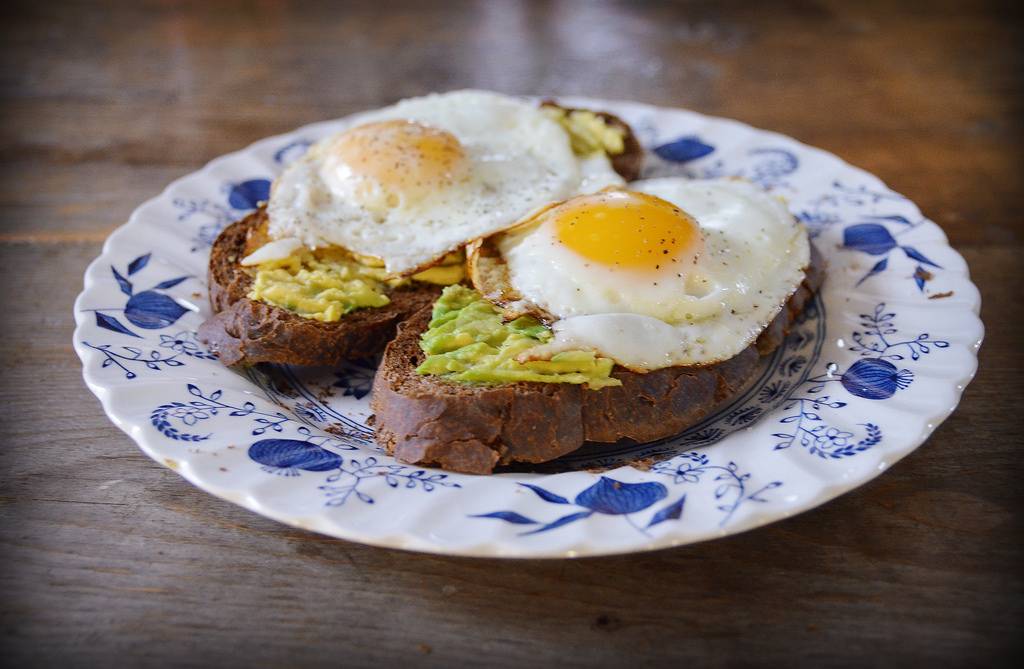fried egg: (243, 91, 591, 259), (504, 186, 818, 338)
slice of bread: (365, 289, 815, 468), (191, 206, 496, 362)
